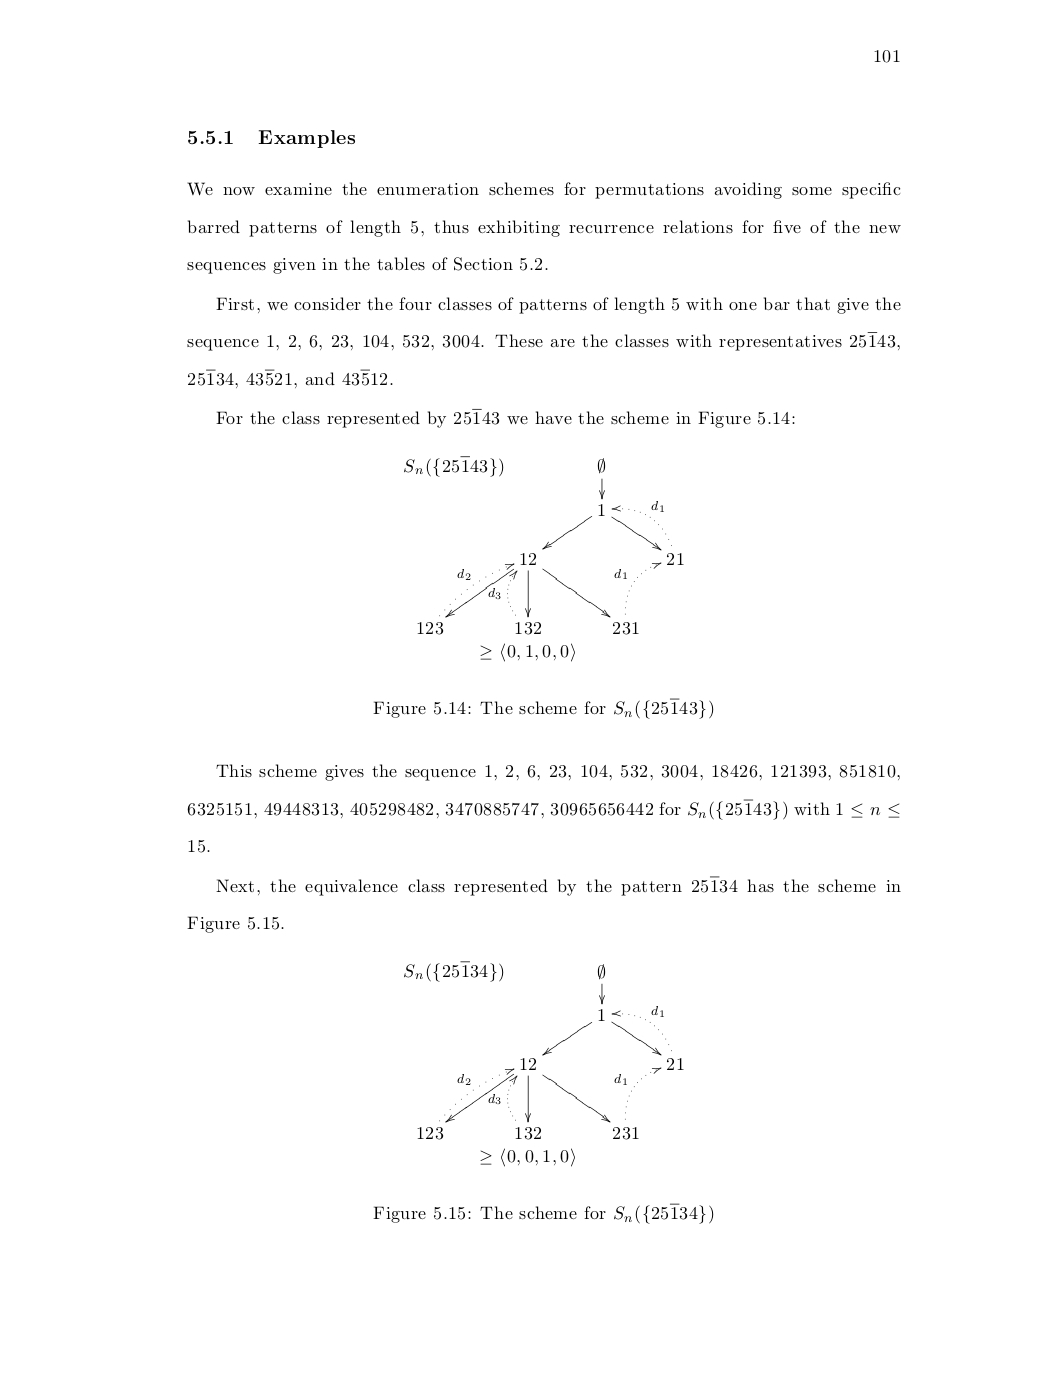figure: (403, 456, 683, 661), (403, 961, 683, 1166)
